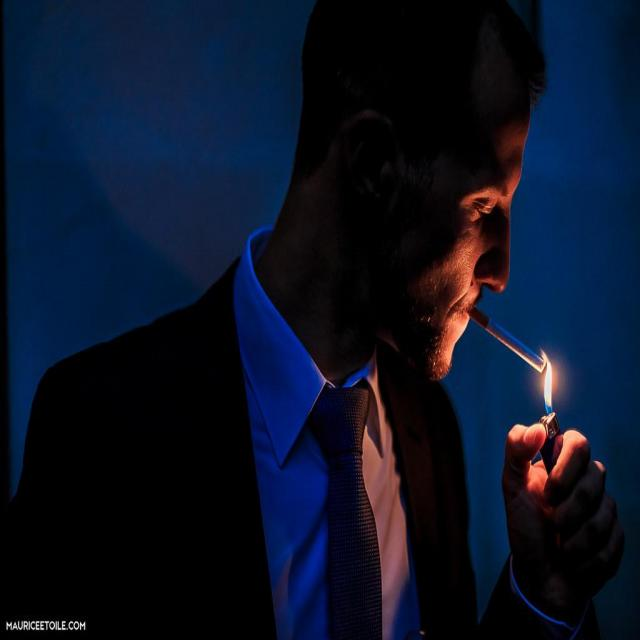Сигарета: (472, 307, 546, 376)
Тело: (208, 48, 604, 640)
